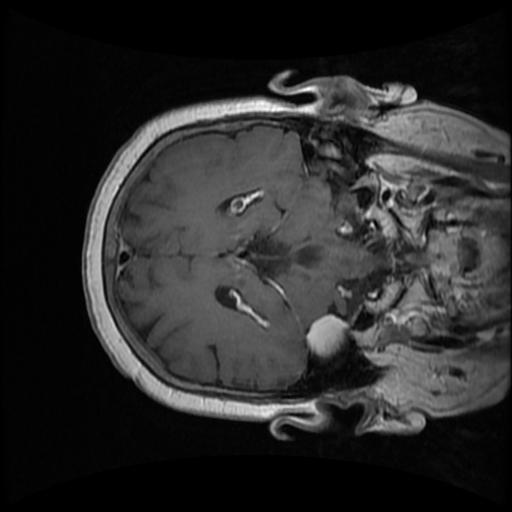meningioma: (303, 312, 351, 357)
